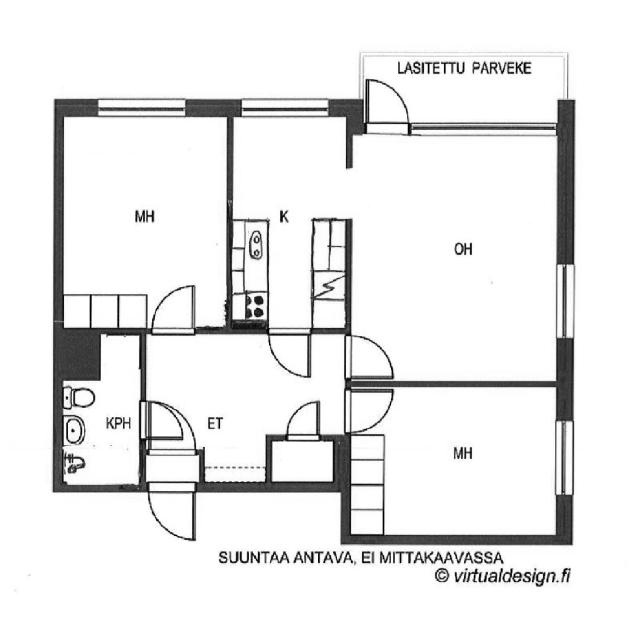door: (276, 395, 332, 482), (360, 74, 415, 136), (146, 278, 202, 336), (146, 482, 198, 544), (341, 329, 399, 382), (341, 381, 398, 434), (142, 396, 199, 448), (264, 323, 314, 382), (281, 398, 327, 443)
window: (412, 118, 556, 142), (233, 91, 340, 123), (91, 90, 195, 120), (552, 254, 582, 347), (551, 413, 580, 504)
zone: (351, 126, 566, 390), (58, 104, 234, 328), (344, 383, 570, 545), (142, 334, 336, 488), (226, 107, 352, 331), (57, 332, 145, 492), (268, 434, 340, 486)
